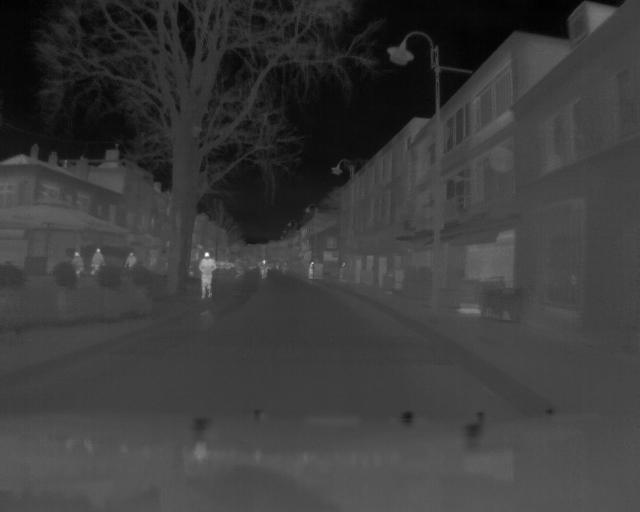person: (197, 250, 216, 299), (90, 245, 106, 274), (71, 249, 85, 275), (124, 251, 137, 269), (258, 259, 269, 280), (305, 260, 315, 281)
